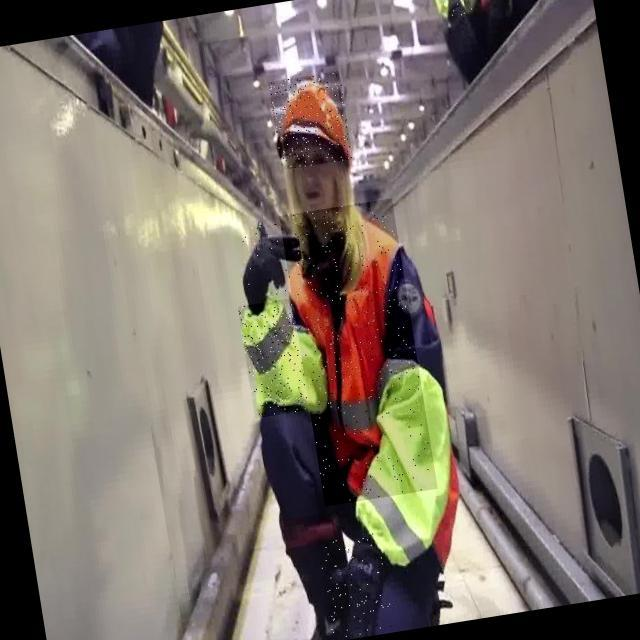Gloves: (318, 529, 399, 640), (229, 222, 306, 313)
Helmet: (268, 71, 353, 170)
Person: (203, 47, 476, 640)
Safety Vest: (279, 199, 438, 507)
